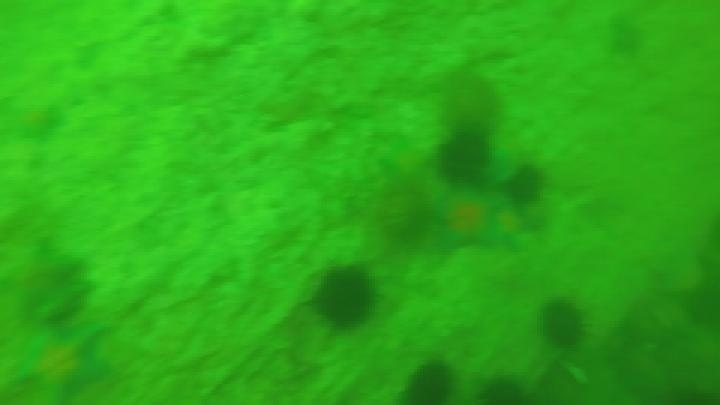echinus: (311, 264, 379, 332), (372, 178, 437, 247), (438, 70, 504, 132), (434, 127, 493, 187), (537, 297, 588, 351), (401, 359, 458, 405), (503, 162, 548, 207), (682, 279, 719, 333), (476, 374, 528, 404)
starfish: (9, 319, 115, 404), (1, 230, 89, 321), (426, 185, 517, 255), (375, 135, 434, 199), (473, 201, 536, 254)
